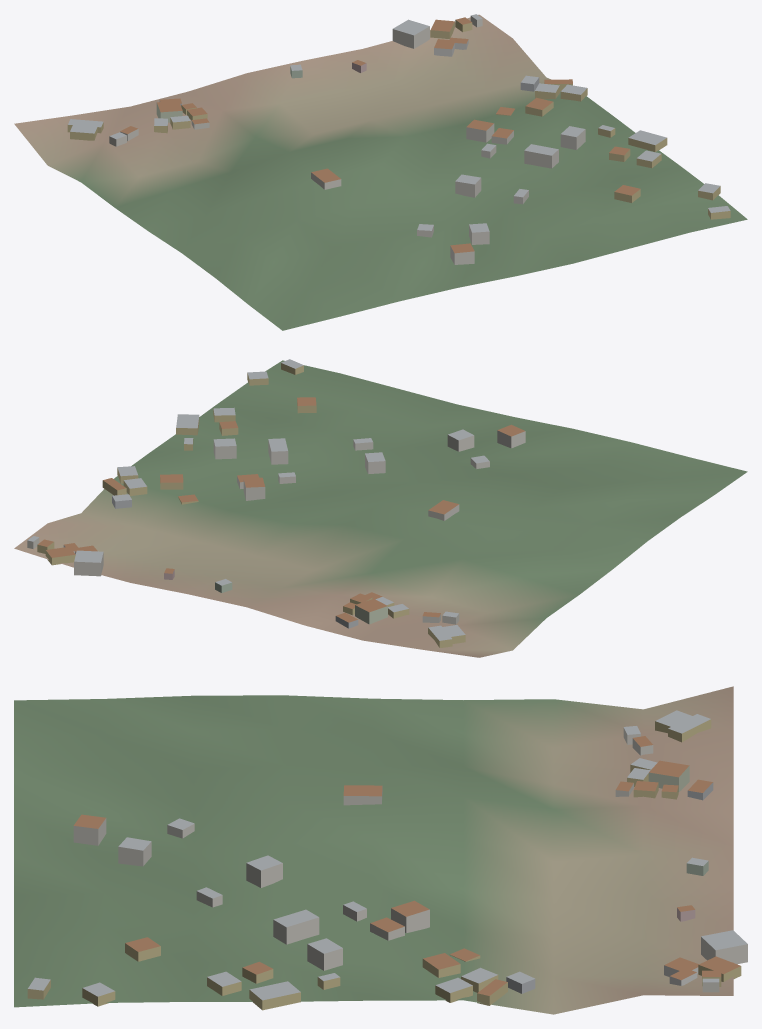
The picture shows the model from 3 angles, top to bottom: view 1: azimuth 30°, elevation 25°; view 2: azimuth 150°, elevation 25°; view 3: azimuth 270°, elevation 25°; orthographic projection. The views are drawn at different scales.
Parts seen in each view (by area): view 1: Lo; view 2: Lo; view 3: Lo.
Part boxes in pixels (x1,y1,x2,y2): Lo: (14,14,747,330); Lo: (14,359,747,657); Lo: (14,686,747,1014).
Bounding box in the file's own units: 263 × 13.13 × 261.
